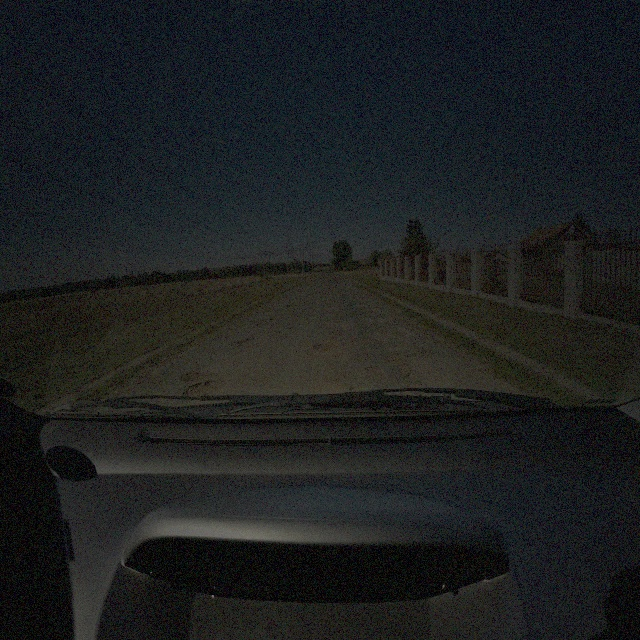pothole: (180, 378, 226, 402), (310, 338, 339, 354), (352, 337, 371, 349), (181, 371, 201, 382), (366, 367, 385, 377), (237, 336, 254, 347), (404, 370, 416, 383), (252, 317, 264, 329), (387, 359, 401, 369), (348, 385, 359, 393)
